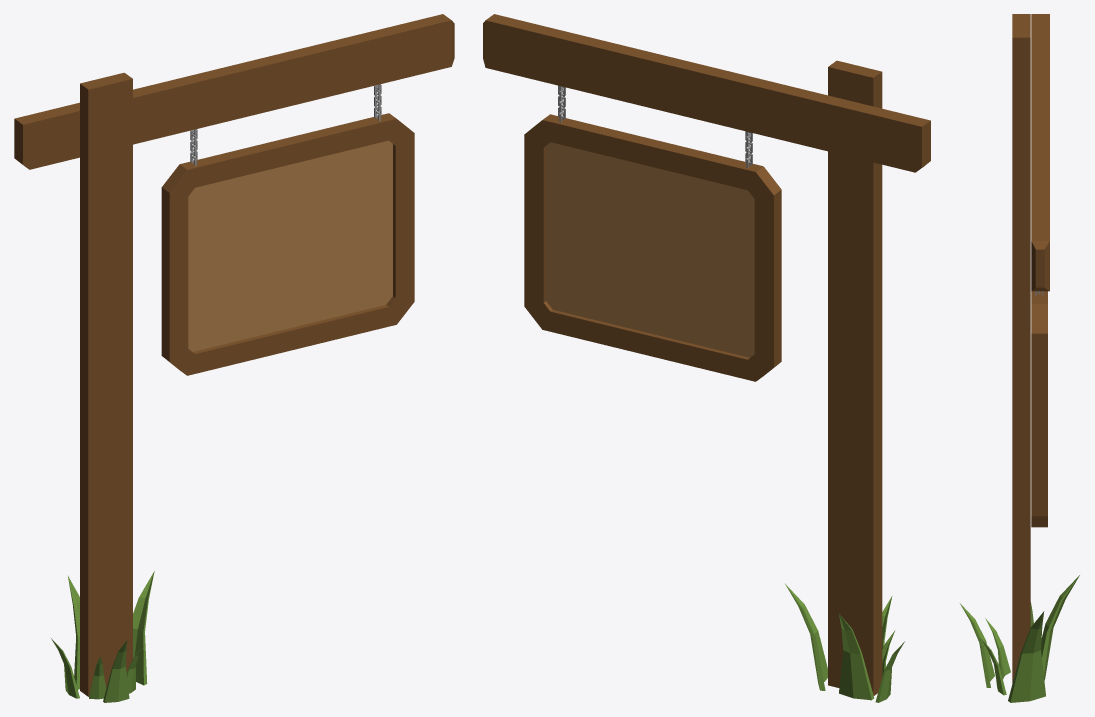
Rendered from Wooden Sign-AsEgIQcQfw.glb.
3 views of the same model, side by side, from view 1: azimuth 30°, elevation 25°; view 2: azimuth 150°, elevation 25°; view 3: azimuth 270°, elevation 25° (orthographic). The views are drawn at different scales.
Parts seen in each view (by area): view 1: Sign10; view 2: Sign10; view 3: Sign10.
Part boxes in pixels (x1=…): Sign10: x1=14, y1=14, x2=454, y2=702; Sign10: x1=483, y1=14, x2=930, y2=702; Sign10: x1=960, y1=14, x2=1079, y2=702.
Bounding box in the file's own units: 1.55 × 2.08 × 0.3487.
